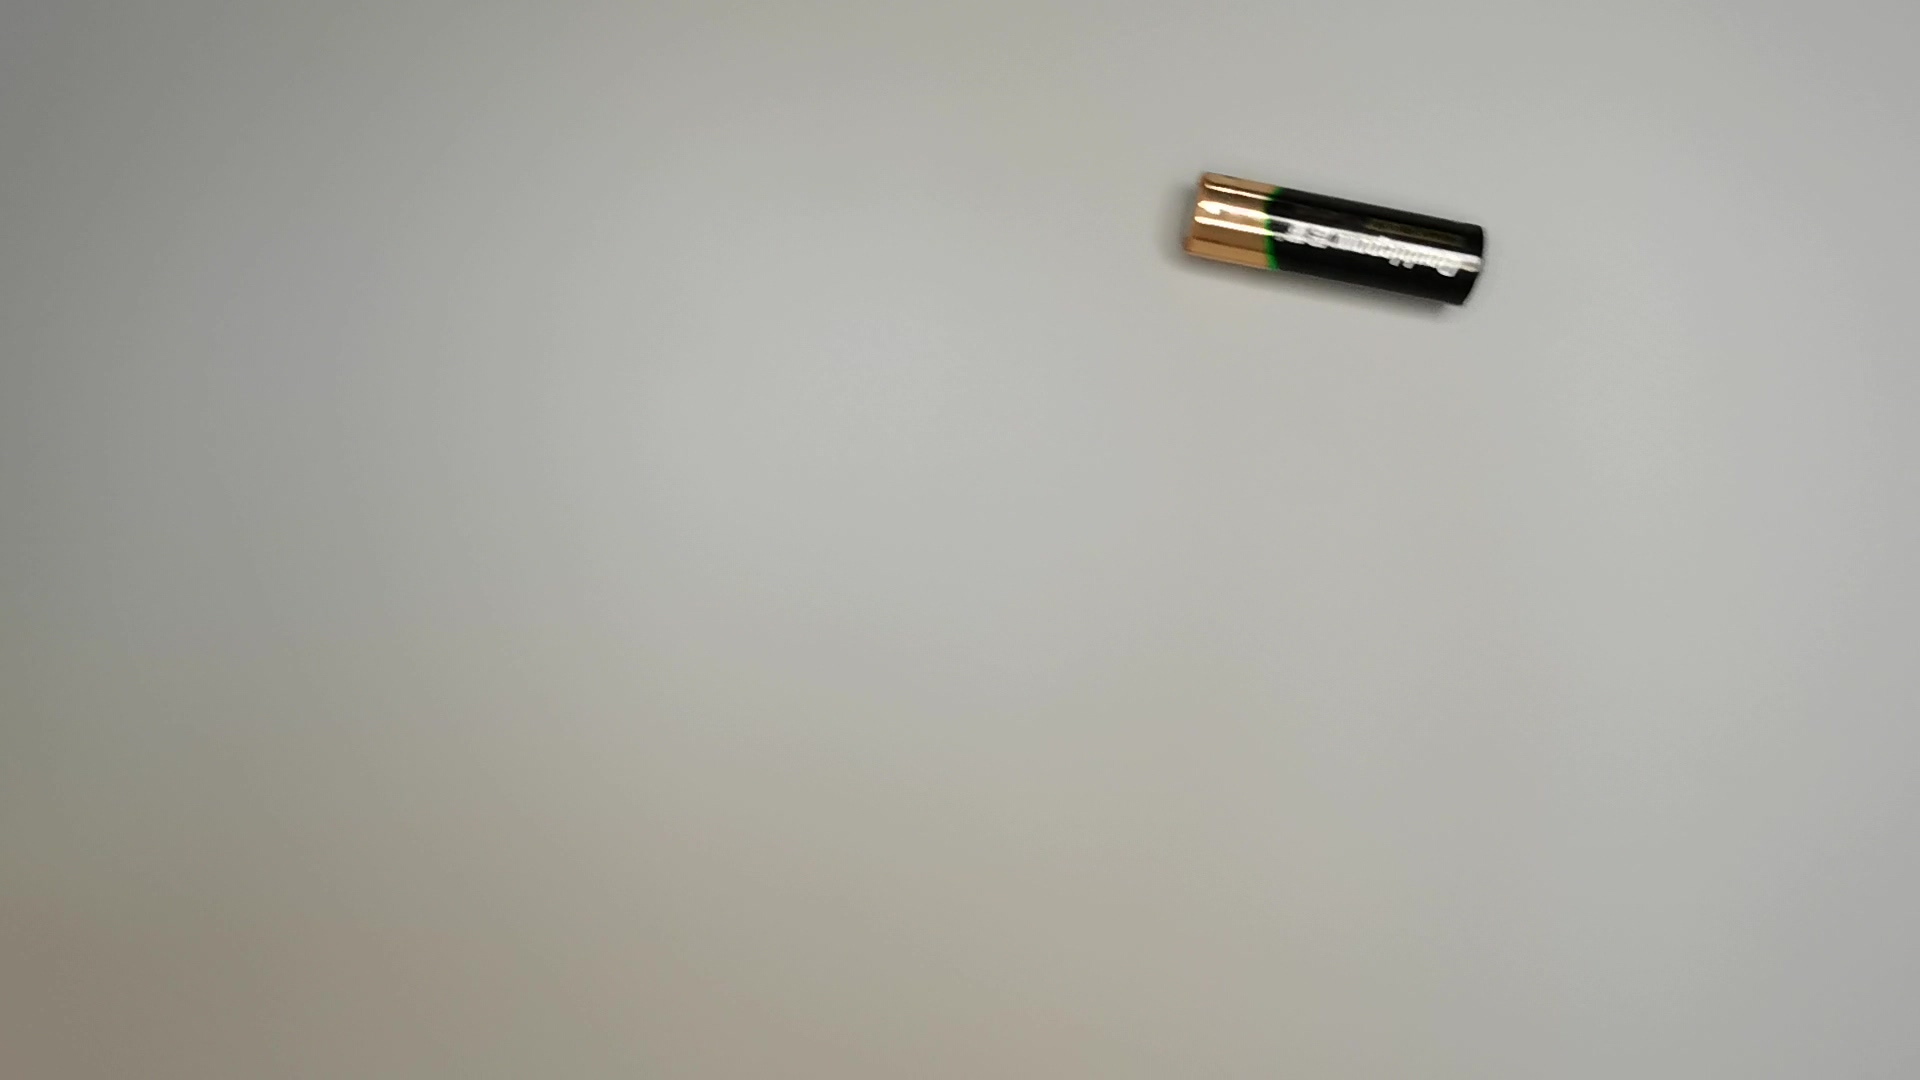battery: (1178, 167, 1495, 315)
